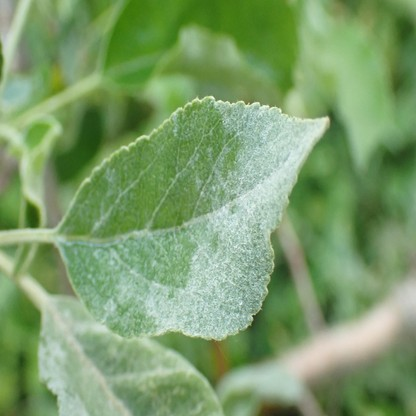powdery_mildew: (54, 95, 331, 343), (38, 296, 221, 416)
